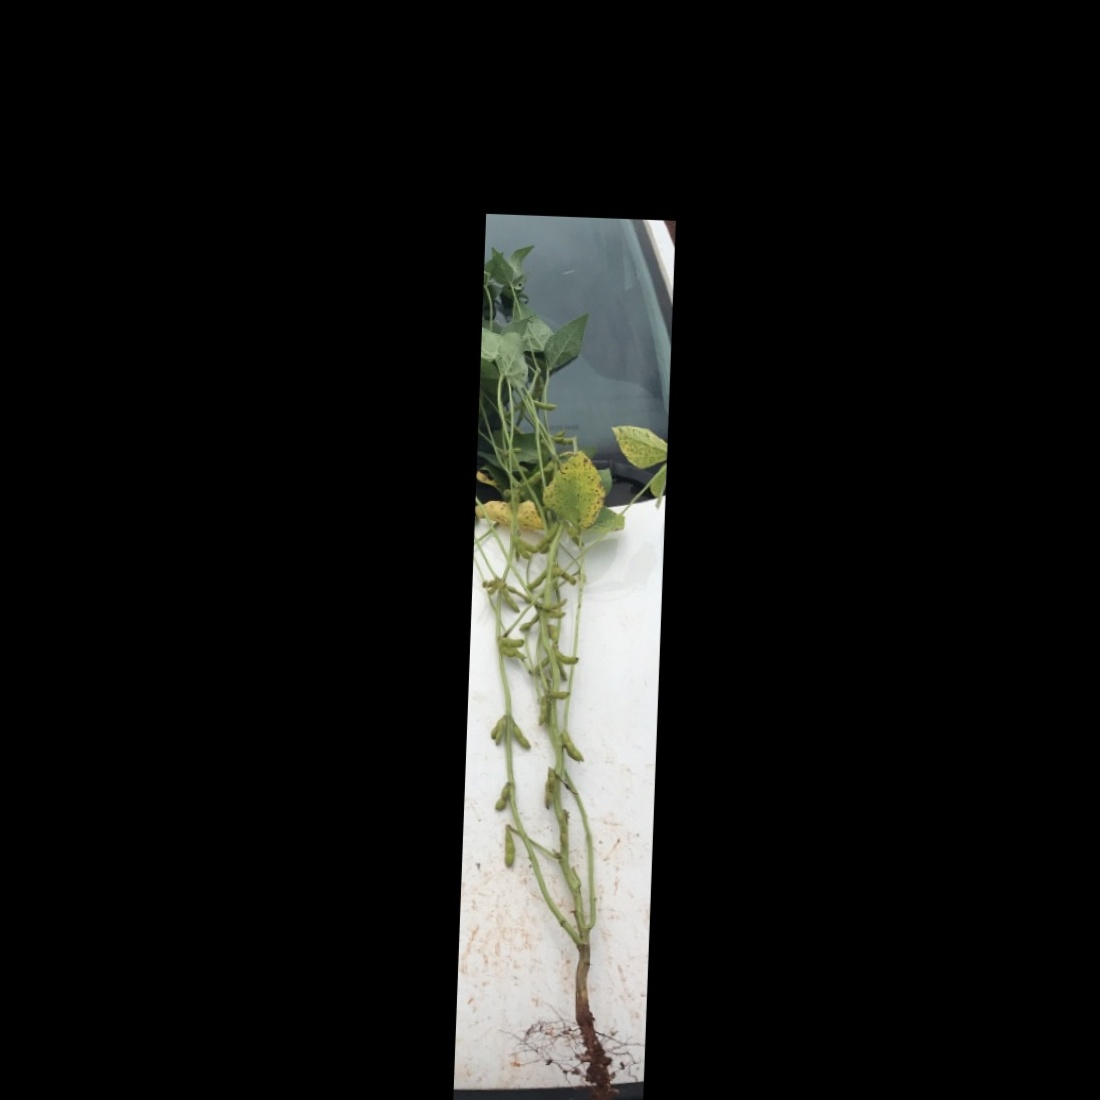pod: (501, 825, 519, 872), (490, 779, 512, 816), (562, 730, 587, 763), (499, 584, 522, 614), (510, 720, 532, 751), (513, 533, 535, 560), (523, 567, 547, 591), (498, 636, 529, 651), (554, 650, 580, 666)
soy: (458, 269, 672, 1091)
